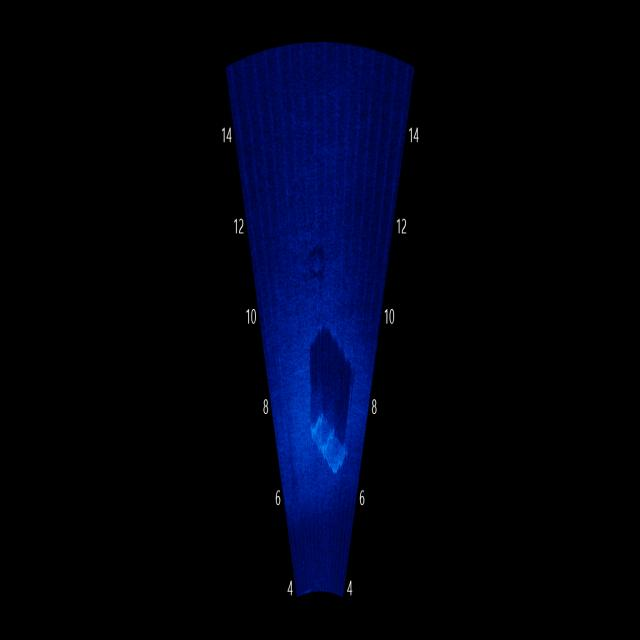square: (304, 399, 354, 489)
